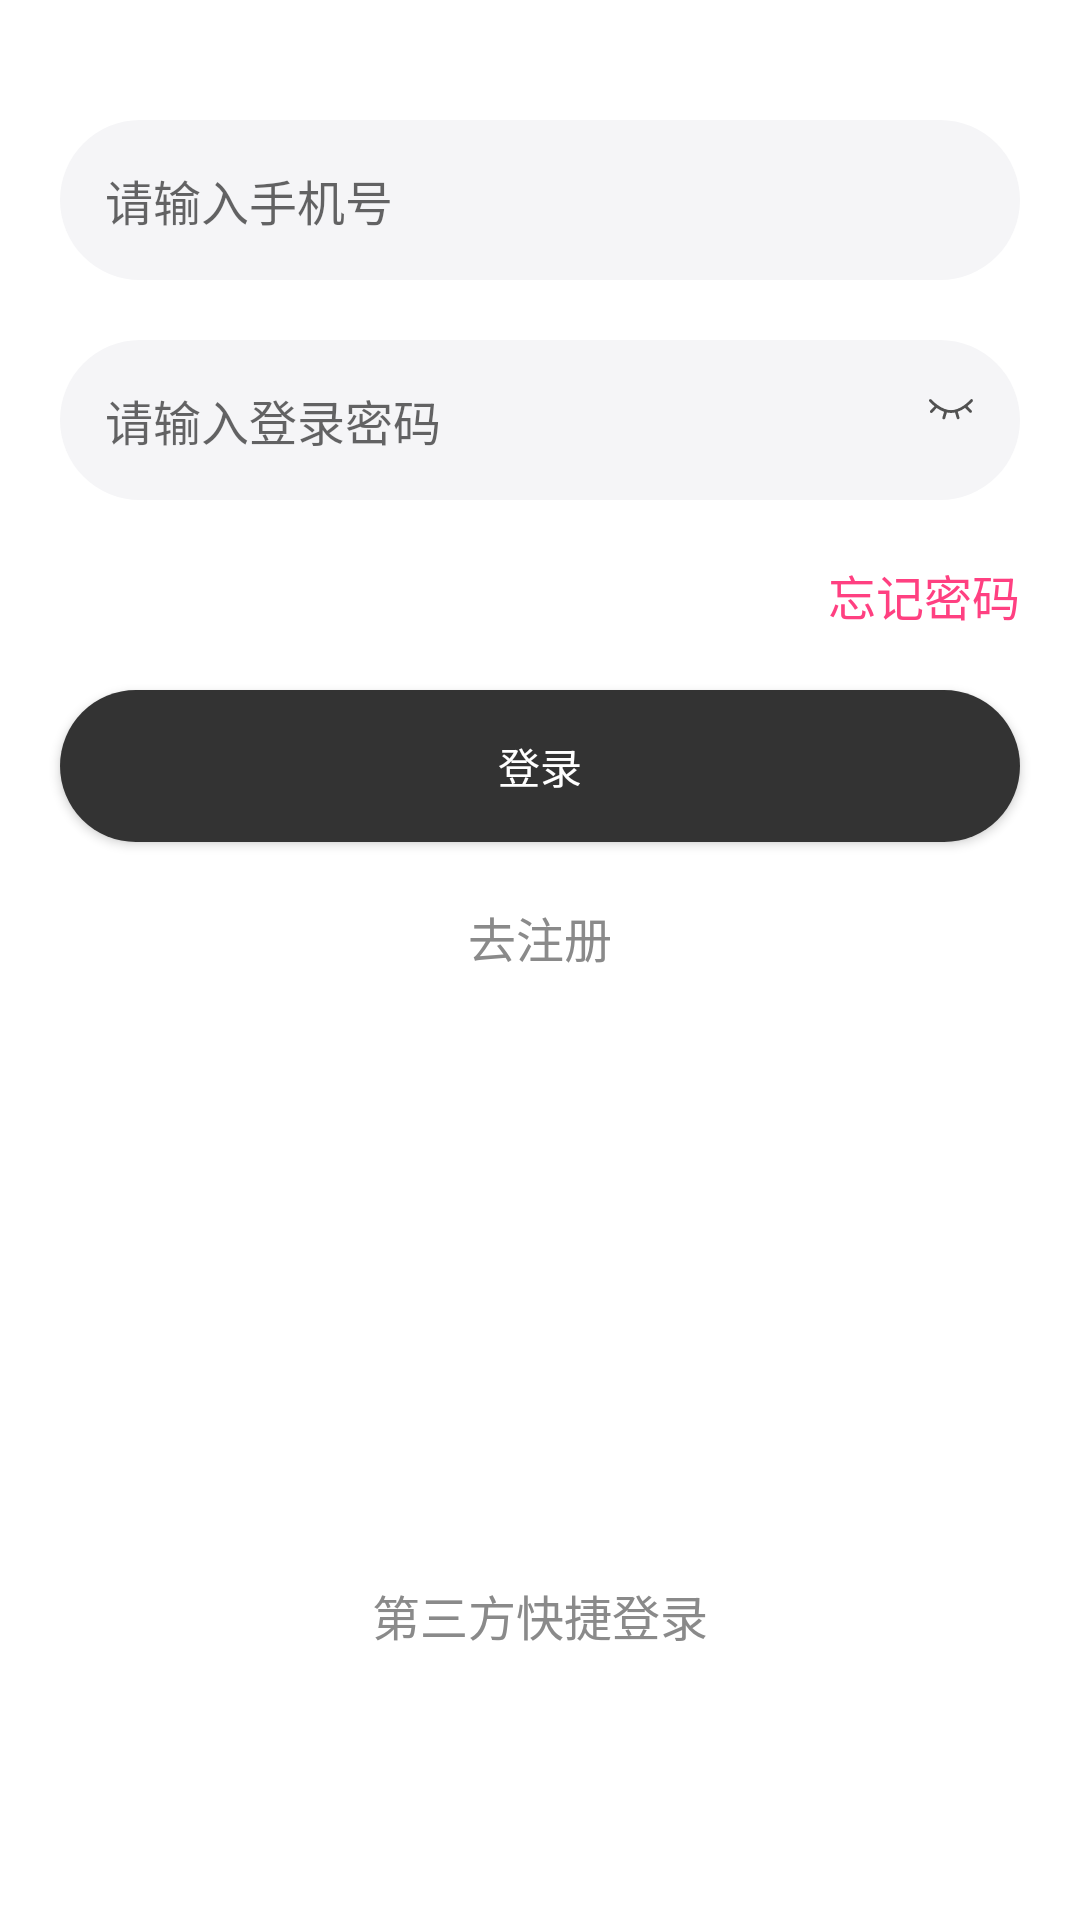

Screen size 1080 × 1920. Icon name, then its center in pixels as (x=x, y=y):
eye close: (x=951, y=409)
